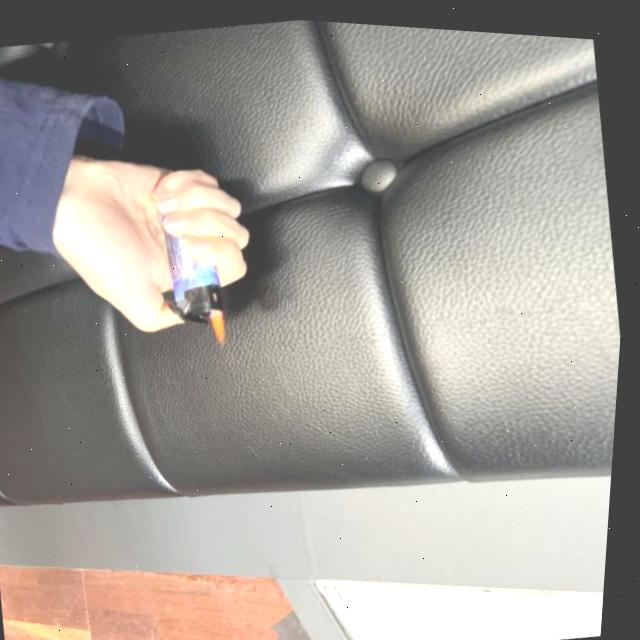Fire: (209, 302, 235, 343)
